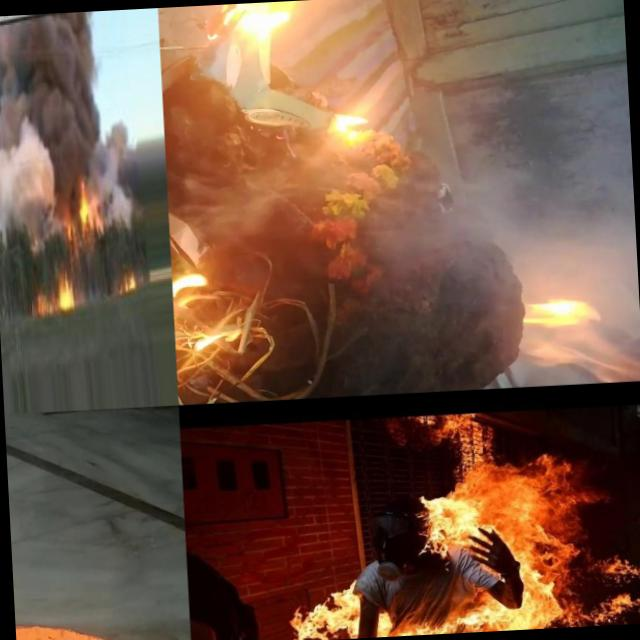fire: (509, 445, 588, 603), (416, 448, 516, 558), (378, 599, 584, 637), (288, 338, 382, 400), (383, 406, 492, 454), (283, 579, 358, 640), (411, 284, 465, 362), (606, 0, 631, 153), (36, 267, 86, 319), (582, 589, 640, 626), (586, 549, 640, 586), (76, 176, 105, 240), (116, 266, 144, 300), (632, 501, 640, 533)
smoke: (469, 0, 628, 310), (0, 80, 65, 244), (460, 315, 564, 390)
